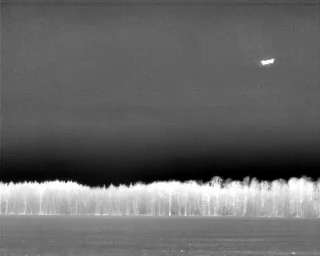DRONE: (257, 54, 278, 70)
